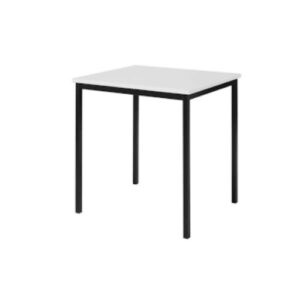m01: (72, 65, 241, 239)
